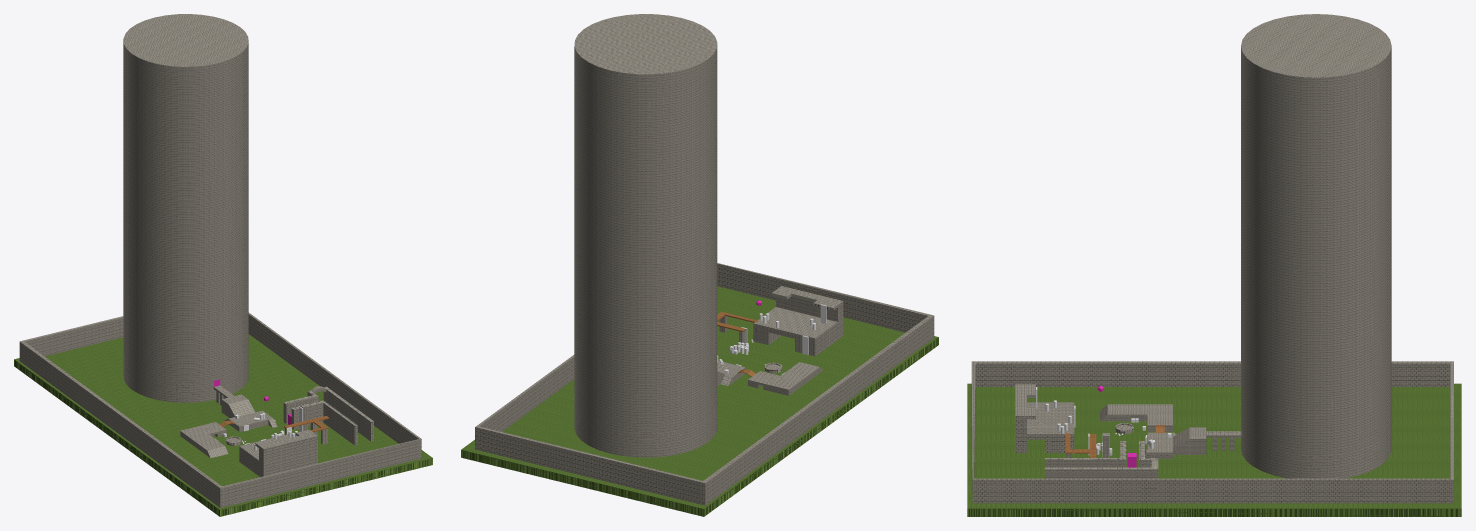
File: Level_001.glb
3 views of the same model, side by side, from view 1: azimuth 30°, elevation 25°; view 2: azimuth 150°, elevation 25°; view 3: azimuth 270°, elevation 25° (orthographic). The views are drawn at different scales.
Parts seen in each view (by area): view 1: TOWER, floor -col, env -col.005, env -col.001, env -col.004, env -col; view 2: TOWER, floor -col, env -col.005, env -col.001, env -col; view 3: TOWER, floor -col, env -col.005, env -col, env -col.001, env -col.004.
Boxes of the visible parts, x1=… form: TOWER: x1=123, y1=14, x2=248, y2=402; floor -col: x1=14, y1=334, x2=432, y2=516; env -col.005: x1=19, y1=312, x2=421, y2=507; env -col.001: x1=239, y1=429, x2=317, y2=477; env -col.004: x1=283, y1=386, x2=373, y2=445; env -col: x1=180, y1=385, x2=277, y2=458; TOWER: x1=574, y1=14, x2=717, y2=457; floor -col: x1=461, y1=286, x2=938, y2=516; env -col.005: x1=475, y1=263, x2=934, y2=505; env -col.001: x1=753, y1=286, x2=843, y2=356; env -col: x1=717, y1=361, x2=822, y2=395; TOWER: x1=1241, y1=14, x2=1391, y2=478; floor -col: x1=967, y1=383, x2=1461, y2=516; env -col.005: x1=971, y1=361, x2=1453, y2=503; env -col: x1=1100, y1=404, x2=1241, y2=458; env -col.001: x1=1015, y1=384, x2=1074, y2=452; env -col.004: x1=1045, y1=441, x2=1158, y2=478.
Size of the model in its own units: 85.78 by 132 by 144.
4 materials, 3 textured.
